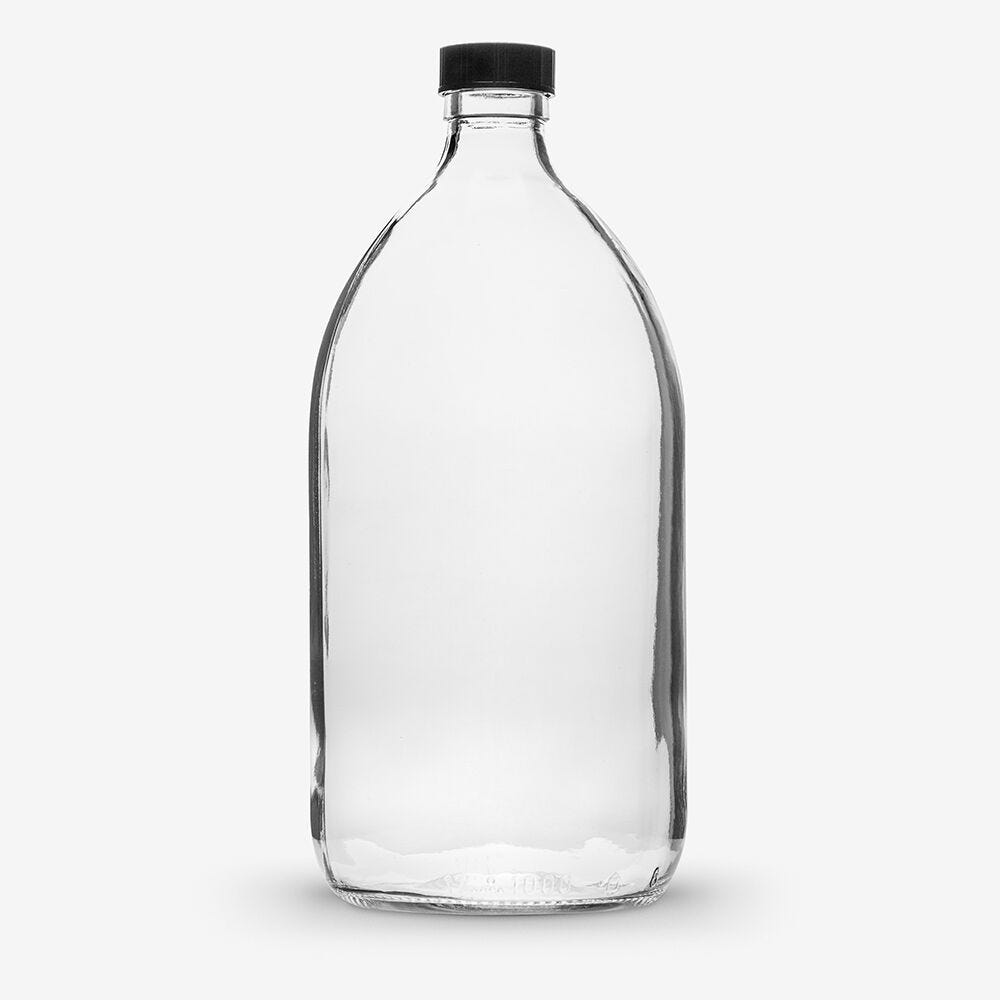glass_bottle: (274, 22, 752, 945)
